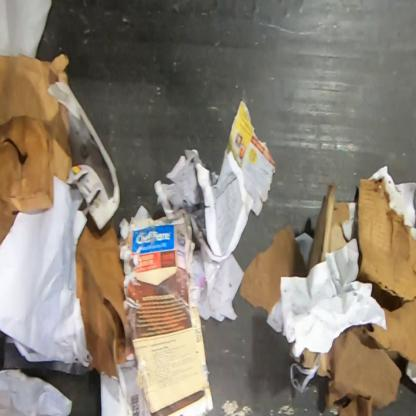cardboard: (119, 208, 215, 415), (0, 53, 74, 256), (46, 81, 122, 231), (76, 212, 134, 381), (355, 175, 415, 303), (364, 283, 415, 366), (306, 182, 350, 278), (289, 348, 320, 368), (316, 351, 334, 380)
